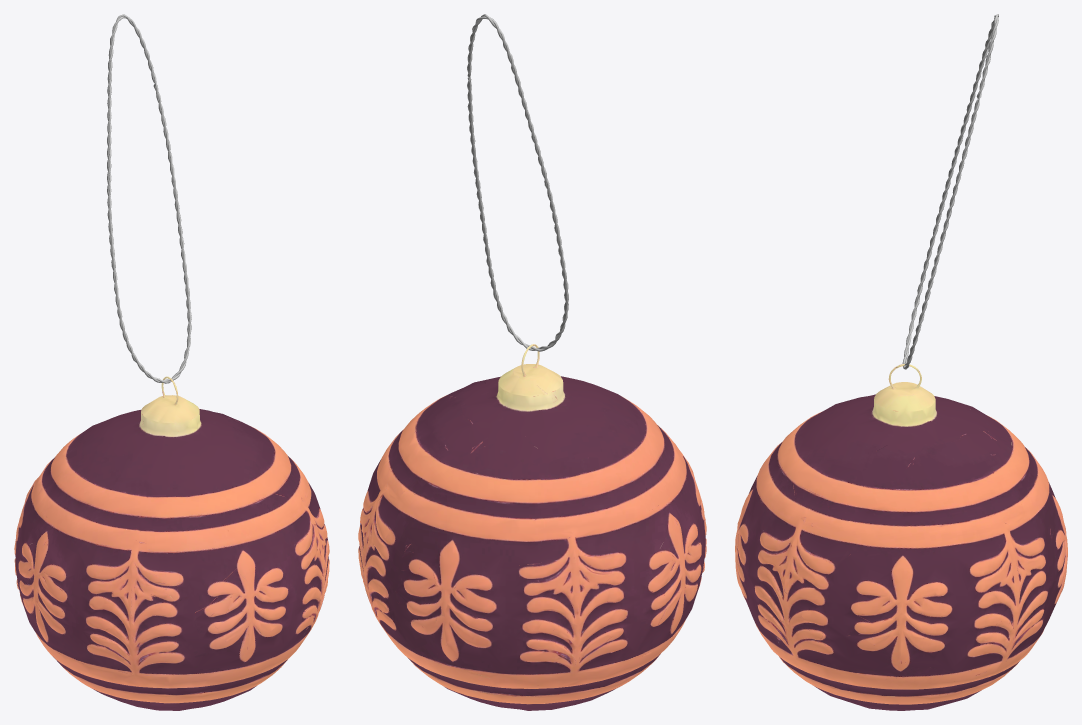
3 views of the same model, side by side, from view 1: azimuth 30°, elevation 25°; view 2: azimuth 150°, elevation 25°; view 3: azimuth 270°, elevation 25° (orthographic). The views are drawn at different scales.
Parts seen in each view (by area): view 1: Mesh1.0, GN Instance; view 2: Mesh1.0, GN Instance; view 3: Mesh1.0, GN Instance.
Part boxes in pixels (<box>): Mesh1.0: <box>14,376,329,710</box>; GN Instance: <box>107,14,191,383</box>; Mesh1.0: <box>358,344,706,710</box>; GN Instance: <box>467,14,568,351</box>; Mesh1.0: <box>735,364,1067,710</box>; GN Instance: <box>902,14,998,369</box>.
Bounding box in the file's own units: 0.08 × 0.1799 × 0.08.
2 materials, 1 textured.
